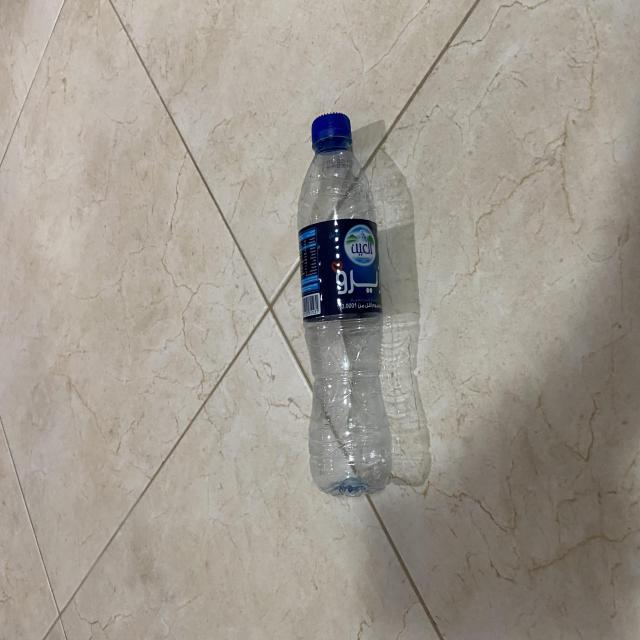plastic: (294, 109, 396, 493)
